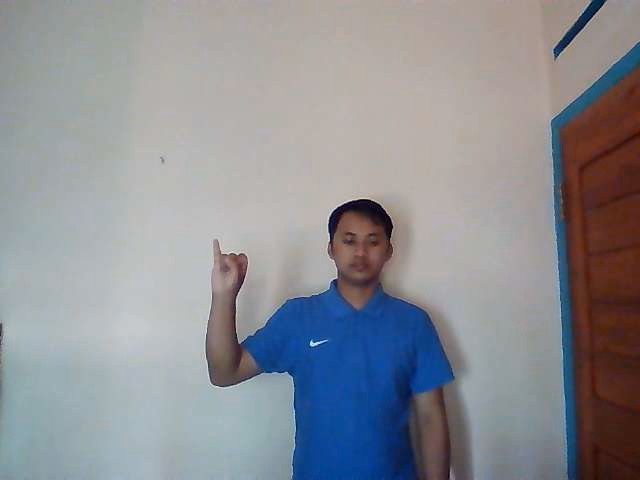I: (210, 239, 250, 297)
